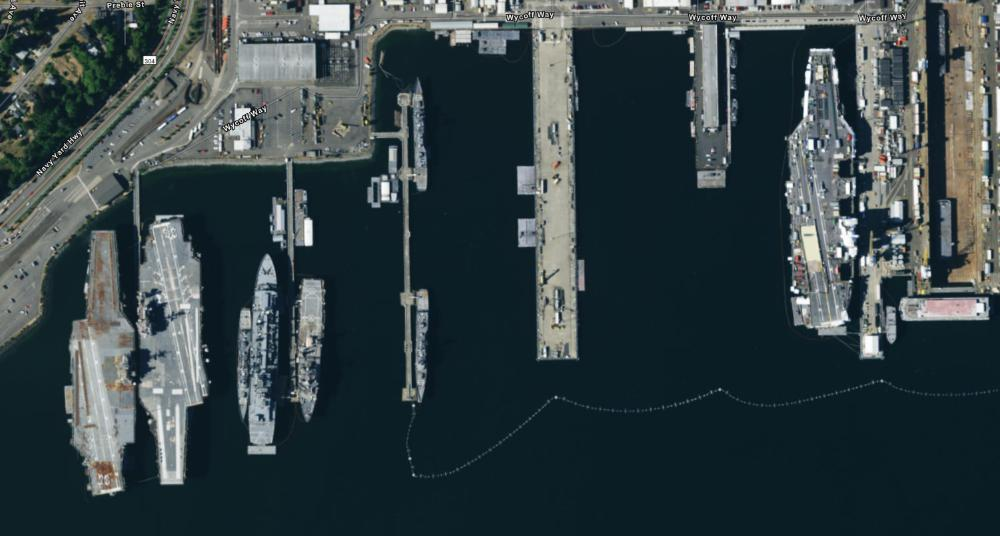carrier: (780, 33, 859, 343), (135, 200, 213, 494)
cruiser: (408, 77, 437, 194), (412, 288, 435, 407), (231, 306, 252, 420)
tender: (249, 250, 286, 463)
